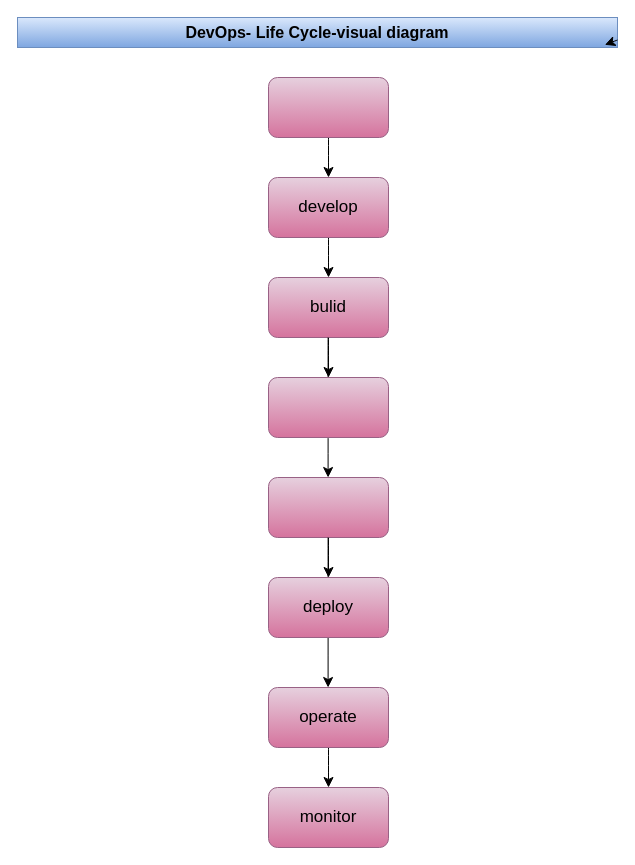
Some shapes in this 635 by 865 pixel diagram are drawn without their labels. Each missing label, with the centre of its shape:
"plan" belongs at point (328, 107).
"release" belongs at point (328, 507).
"test" belongs at point (328, 407).
